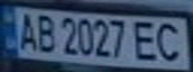0: (75, 15, 93, 57)
2: (90, 16, 112, 58), (57, 14, 78, 56)
7: (109, 16, 130, 60)
A: (12, 9, 39, 52)
B: (33, 11, 57, 54)
C: (151, 20, 190, 63)
E: (130, 18, 163, 62)
